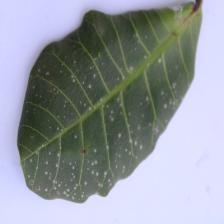red rust: (16, 0, 204, 203)
